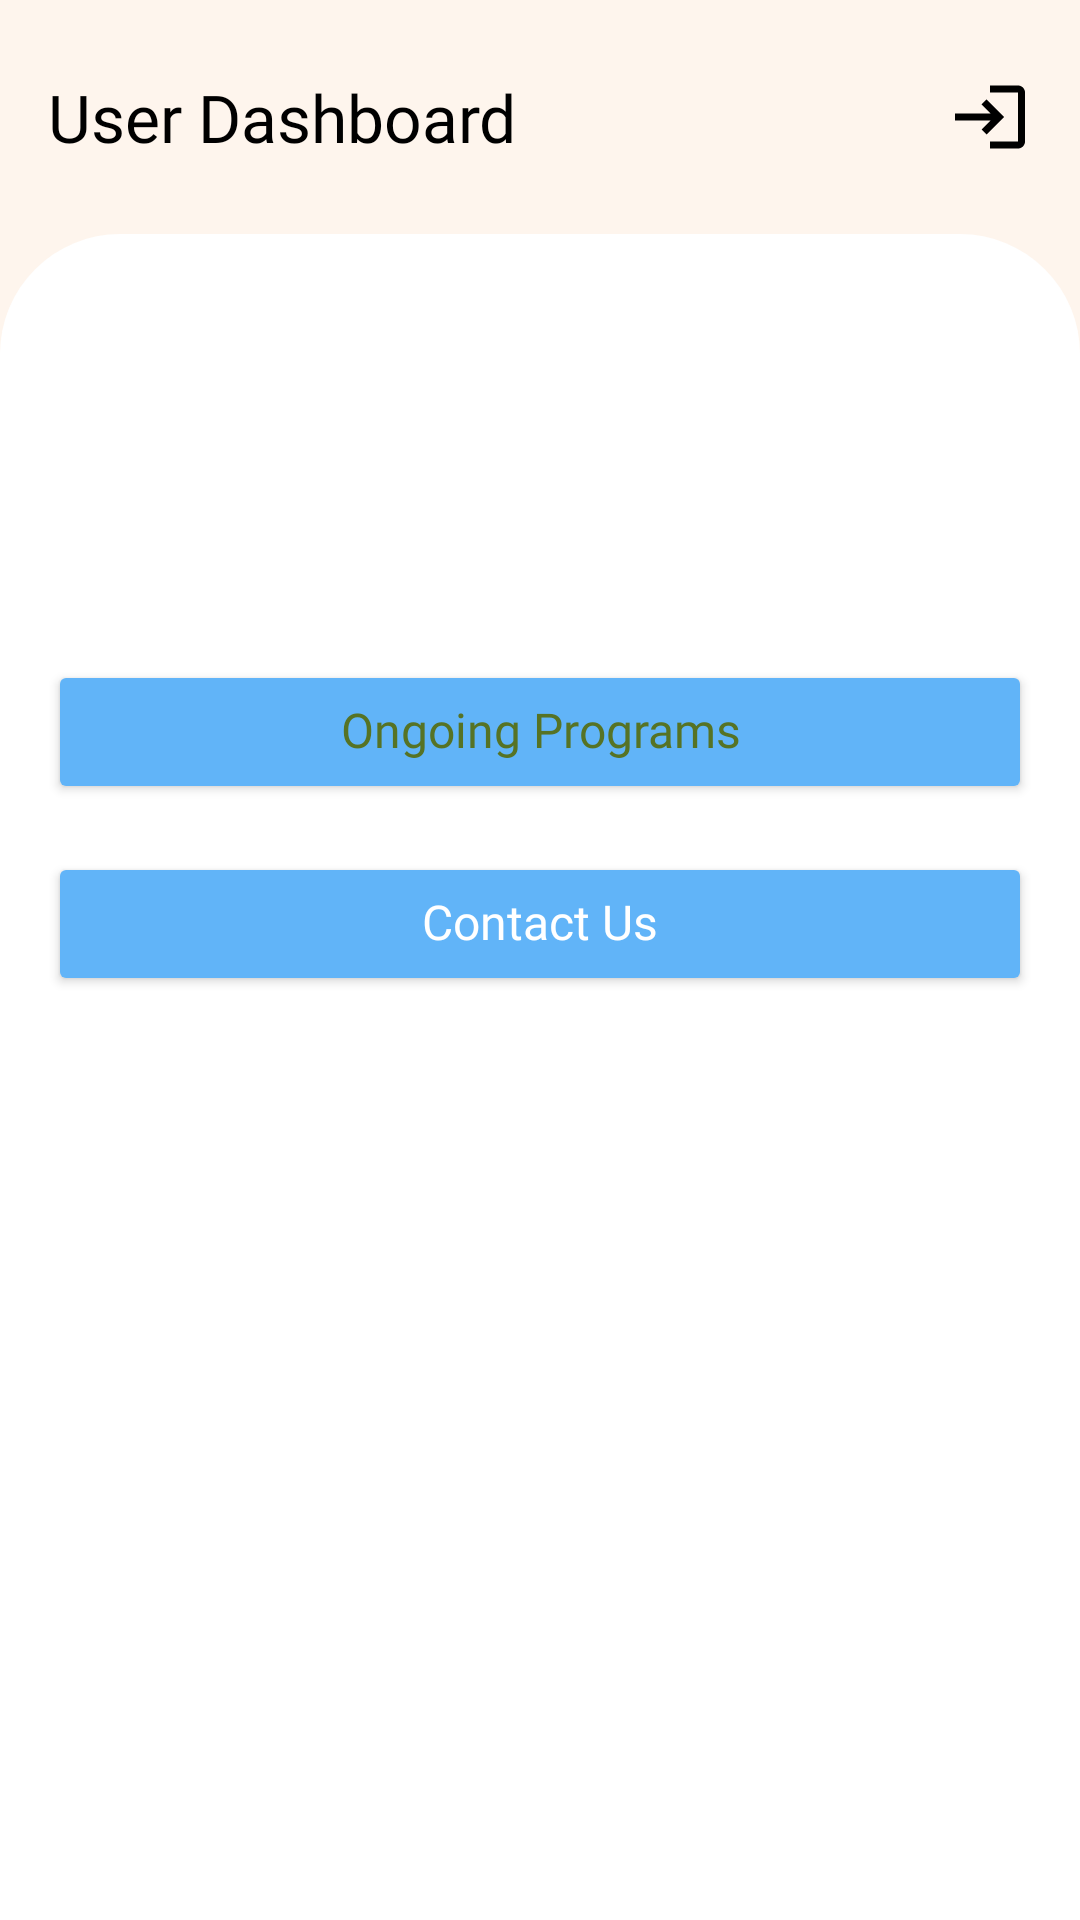

Named icons in this screenshot (1080 x 1920) and their bounding boxes, (x1, y1, x2, y2):
login: (955, 85, 1025, 149)
